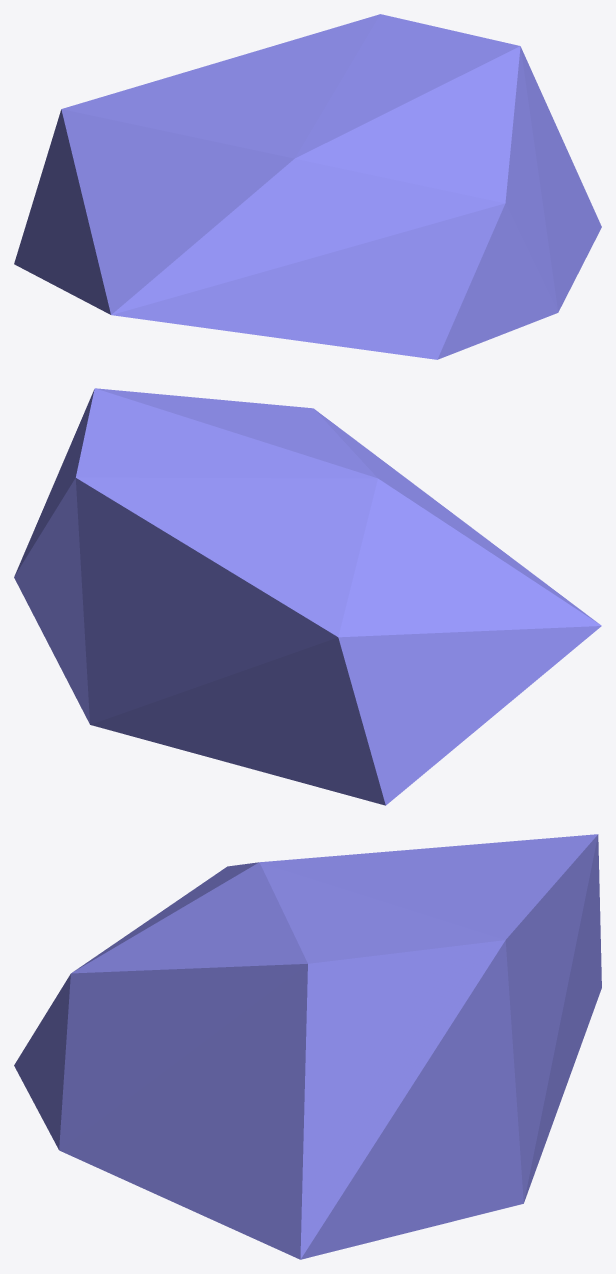
Rendered from Rock_13_Collider_01.FBX.
3 renders of one model, top to bottom at view 1: azimuth 30°, elevation 25°; view 2: azimuth 150°, elevation 25°; view 3: azimuth 270°, elevation 25°, orthographic. The views are drawn at different scales.
Parts seen in each view (by area): view 1: COLLIDER1; view 2: COLLIDER1; view 3: COLLIDER1.
Part boxes in pixels (<box>): COLLIDER1: <box>14,14,601,359</box>; COLLIDER1: <box>14,388,601,805</box>; COLLIDER1: <box>14,834,601,1259</box>.
Bounding box in the file's own units: 27.76 × 12.71 × 21.69.
